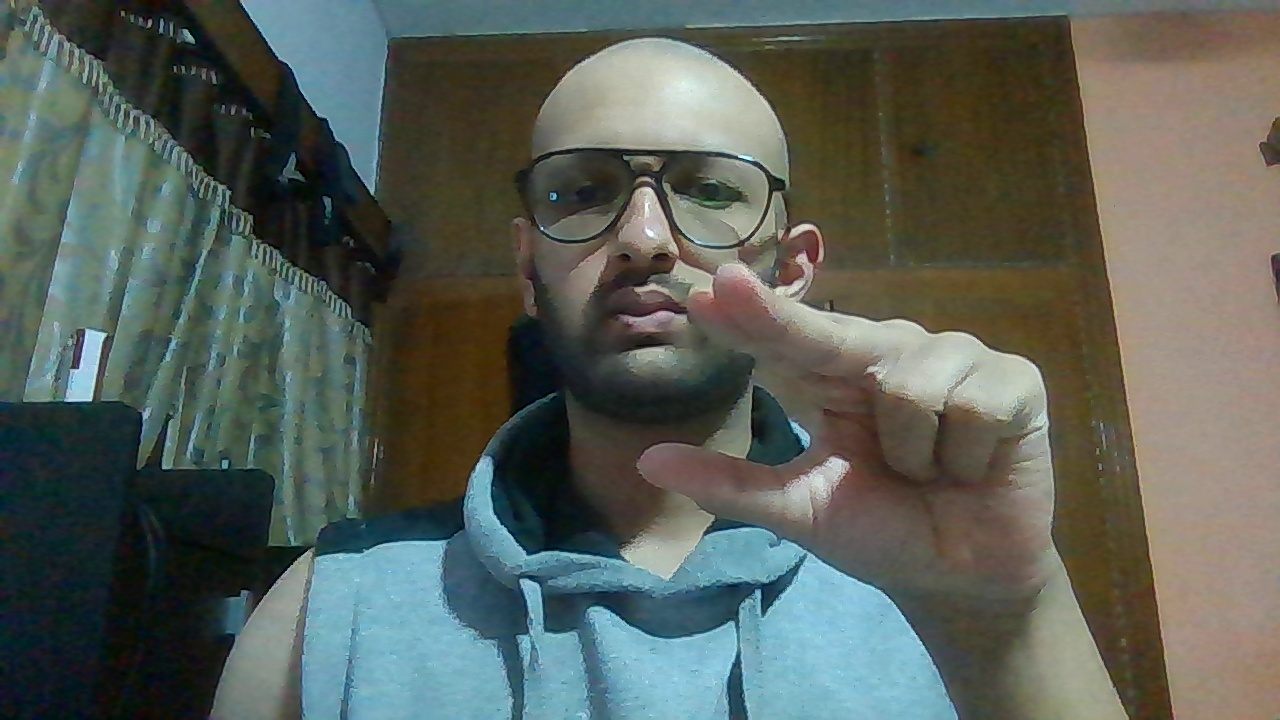No: (639, 255, 1059, 599)
